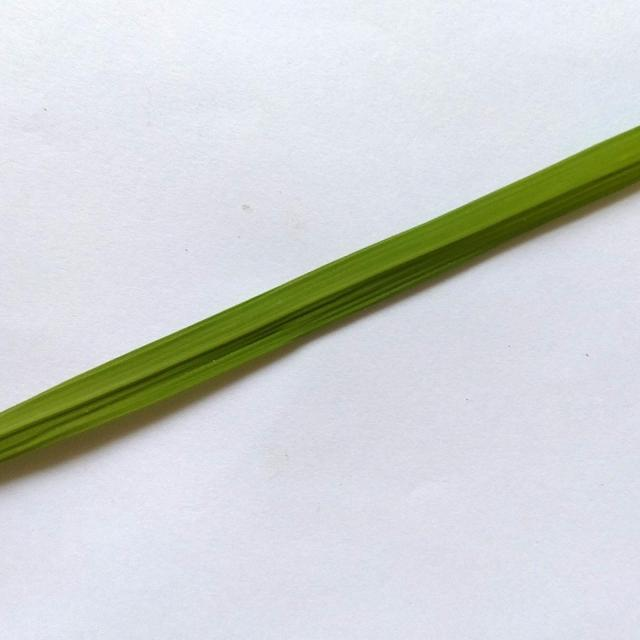healthy: (0, 31, 640, 562)
